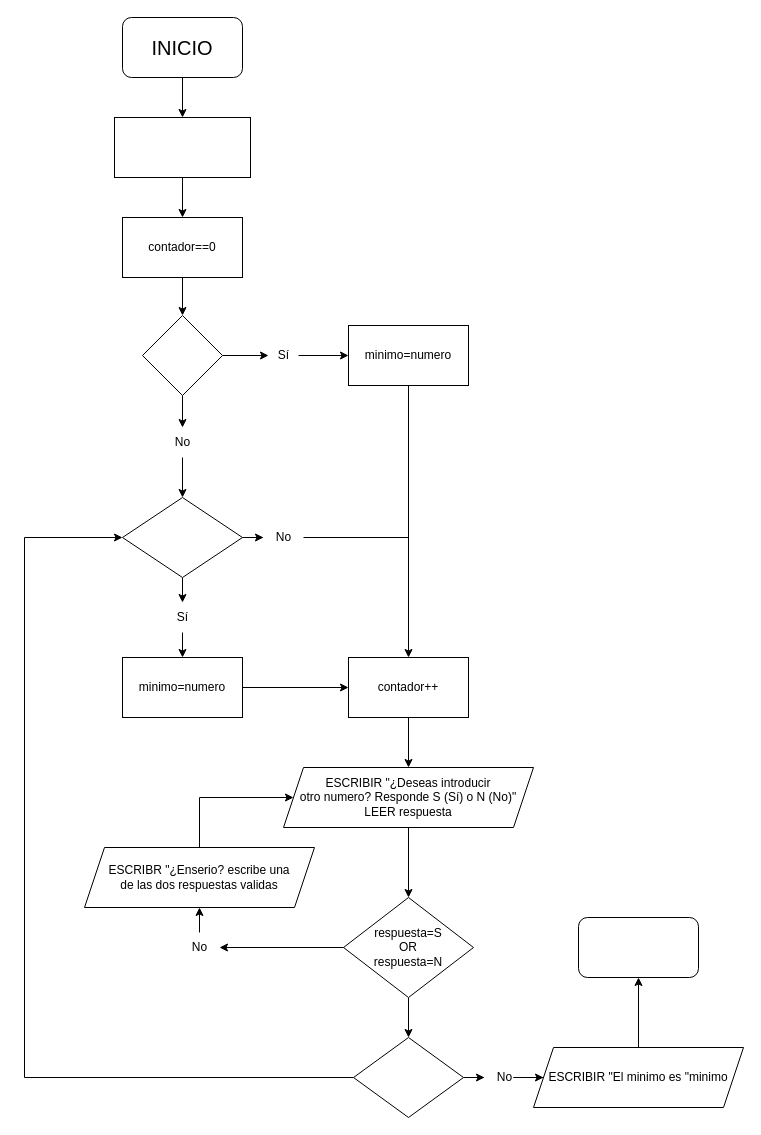
This 761x1135 diagram has some shape labels left out. The shapes that lost their labels are listed below. From the top down, each one's centre as x and y in pixels, then its label:
At point (182, 147): "numero:ENTERO contador: ENTERO minimo: ENTERO respuesta: CARACTER".
At point (182, 355): "contador=0".
At point (182, 537): "numero<minimo".
At point (638, 947): "FIN".
At point (408, 1077): "respuesta=S".
